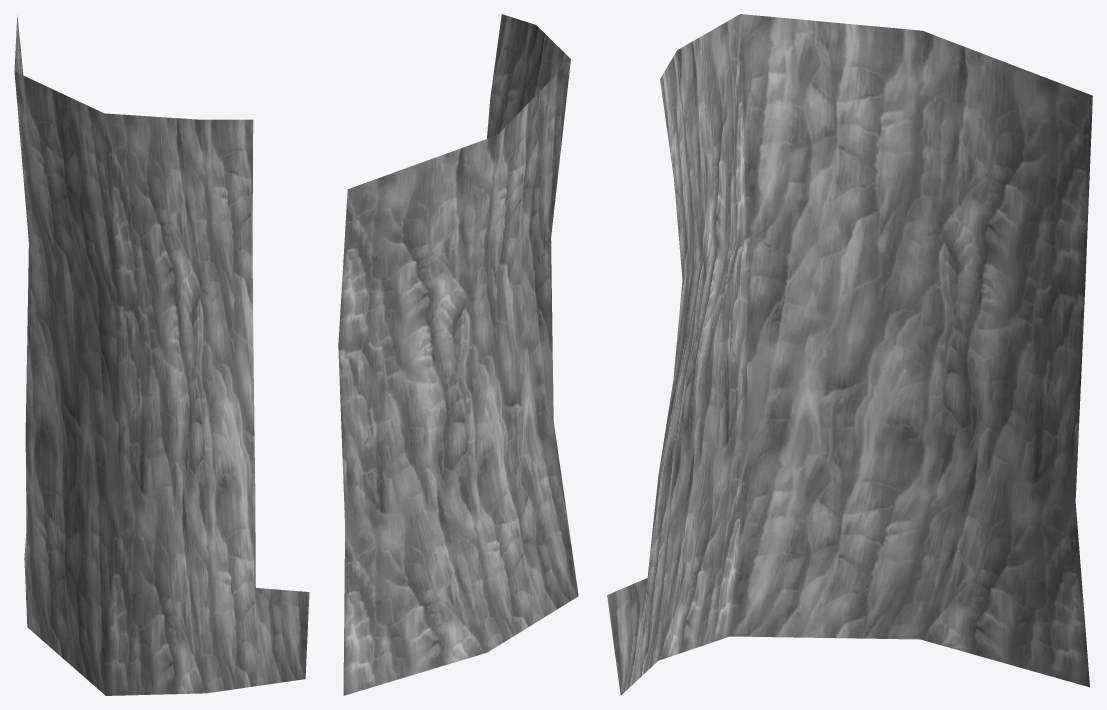
The model's file is SWORDLIGHT20_PS-AREA03_35.fbx.
3 renders of one model, left to right at view 1: azimuth 30°, elevation 25°; view 2: azimuth 150°, elevation 25°; view 3: azimuth 270°, elevation 25°, orthographic. The views are drawn at different scales.
Visible parts, largest first — view 1: SWORDLIGHT20_PS-AREA03_35; view 2: SWORDLIGHT20_PS-AREA03_35; view 3: SWORDLIGHT20_PS-AREA03_35.
Boxes of the visible parts, x1=… form: SWORDLIGHT20_PS-AREA03_35: x1=14, y1=15, x2=309, y2=695; SWORDLIGHT20_PS-AREA03_35: x1=338, y1=14, x2=578, y2=695; SWORDLIGHT20_PS-AREA03_35: x1=607, y1=14, x2=1092, y2=695.
Bounding box in the file's own units: 39589 × 145988 × 101965.
Materials: 1 (1 with a texture image).
